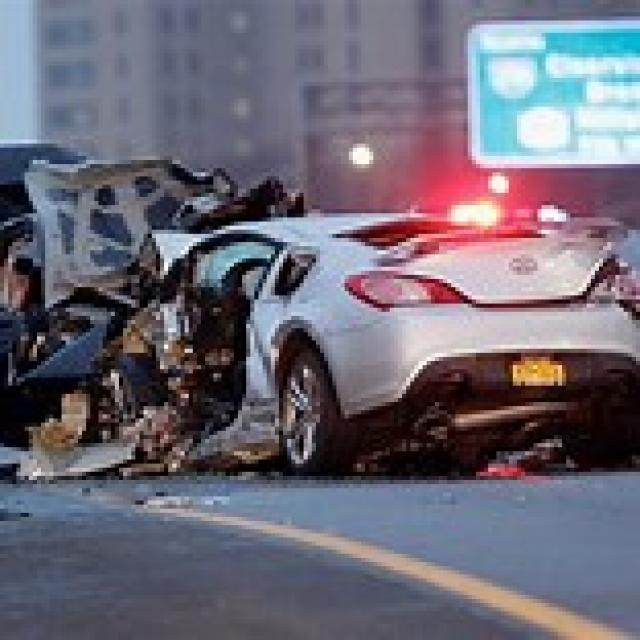Accident: (70, 111, 474, 480)
